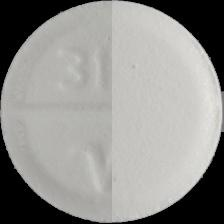0603-3741: (0, 0, 224, 224)
